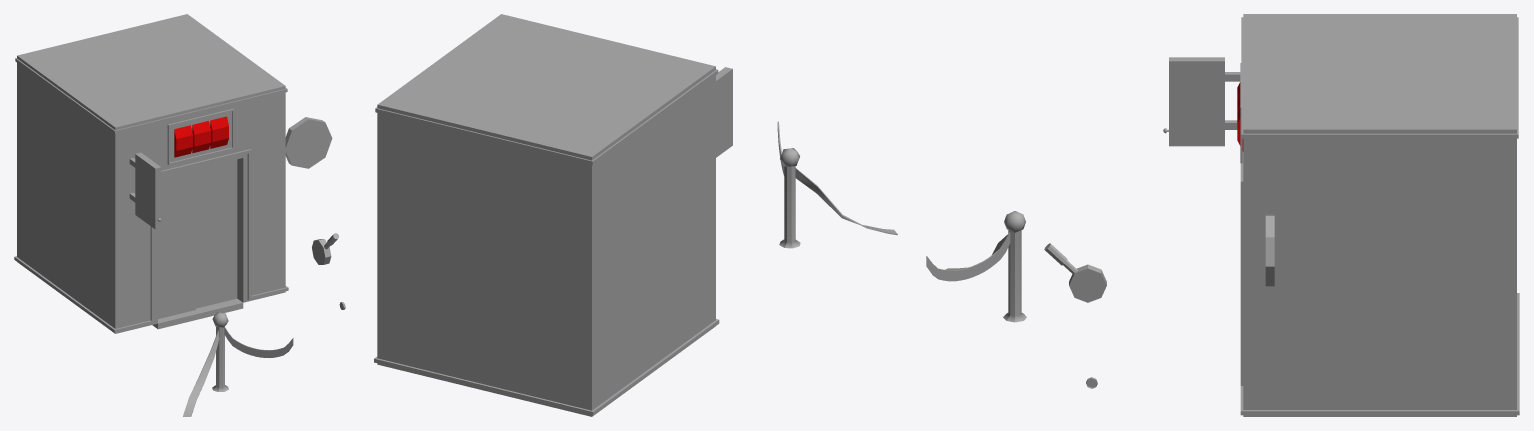
Rendered from Elavator 1.fbx.
3 renders of one model, left to right at view 1: azimuth 30°, elevation 25°; view 2: azimuth 150°, elevation 25°; view 3: azimuth 270°, elevation 25°, orthographic. The views are drawn at different scales.
Visible parts, largest first — view 1: elavator, smalldoor, bigdoor, post, ribbon2, ribbon1, handle; view 2: elavator, post, ribbon2; view 3: elavator, post, handle, ribbon1.
Boxes of the visible parts, <box> form: elavator: <box>14,14,332,333</box>; smalldoor: <box>196,159,237,308</box>; bigdoor: <box>158,169,195,318</box>; post: <box>212,312,228,391</box>; ribbon2: <box>183,330,219,416</box>; ribbon1: <box>224,327,293,357</box>; handle: <box>312,233,338,264</box>; elavator: <box>374,14,732,416</box>; post: <box>779,148,800,248</box>; ribbon2: <box>795,168,897,235</box>; elavator: <box>1169,14,1519,416</box>; post: <box>1003,211,1026,322</box>; handle: <box>1044,243,1106,302</box>; ribbon1: <box>926,231,1010,281</box>.
Size of the model in its own units: 3.65 by 2.81 by 5.11.
